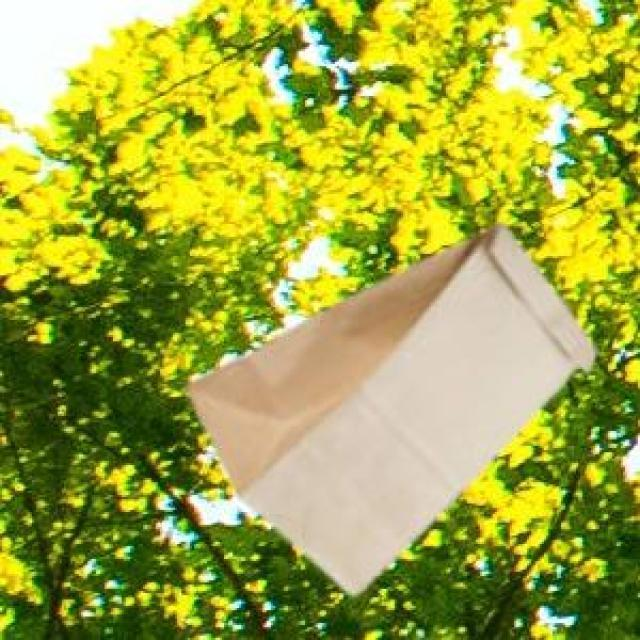paper: (184, 220, 591, 591)
